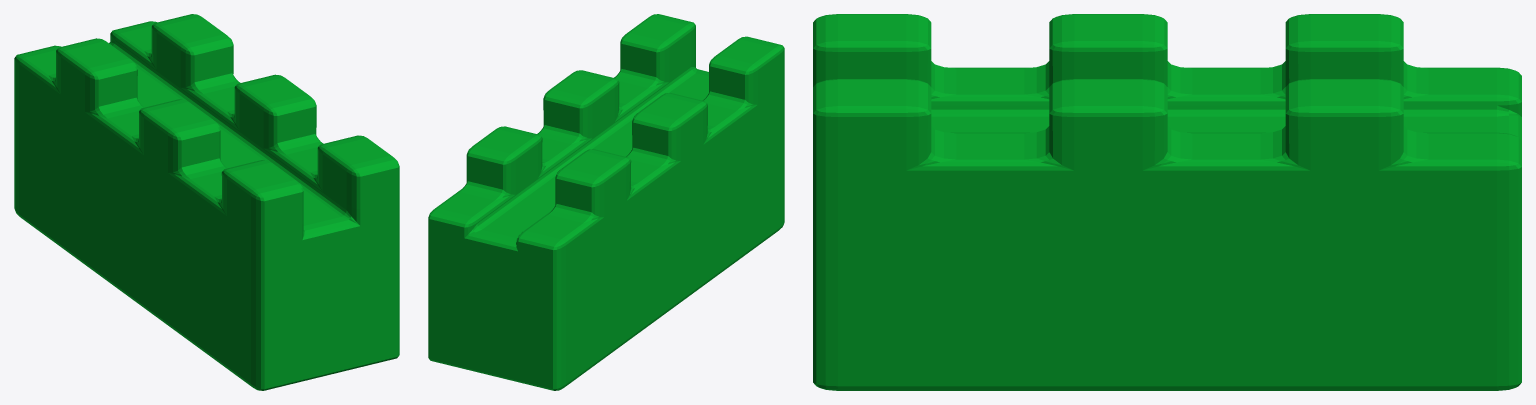
Rendered from block 3.fbx.
3 views of the same model, side by side, from view 1: azimuth 30°, elevation 25°; view 2: azimuth 150°, elevation 25°; view 3: azimuth 270°, elevation 25° (orthographic). The views are drawn at different scales.
Visible parts, largest first — view 1: Cube; view 2: Cube; view 3: Cube.
Part boxes in pixels (x1,y1,x2,y2): Cube: (14, 14, 399, 390); Cube: (428, 14, 784, 390); Cube: (813, 14, 1521, 390).
Size of the model in its own units: 400 by 531 by 1200.
